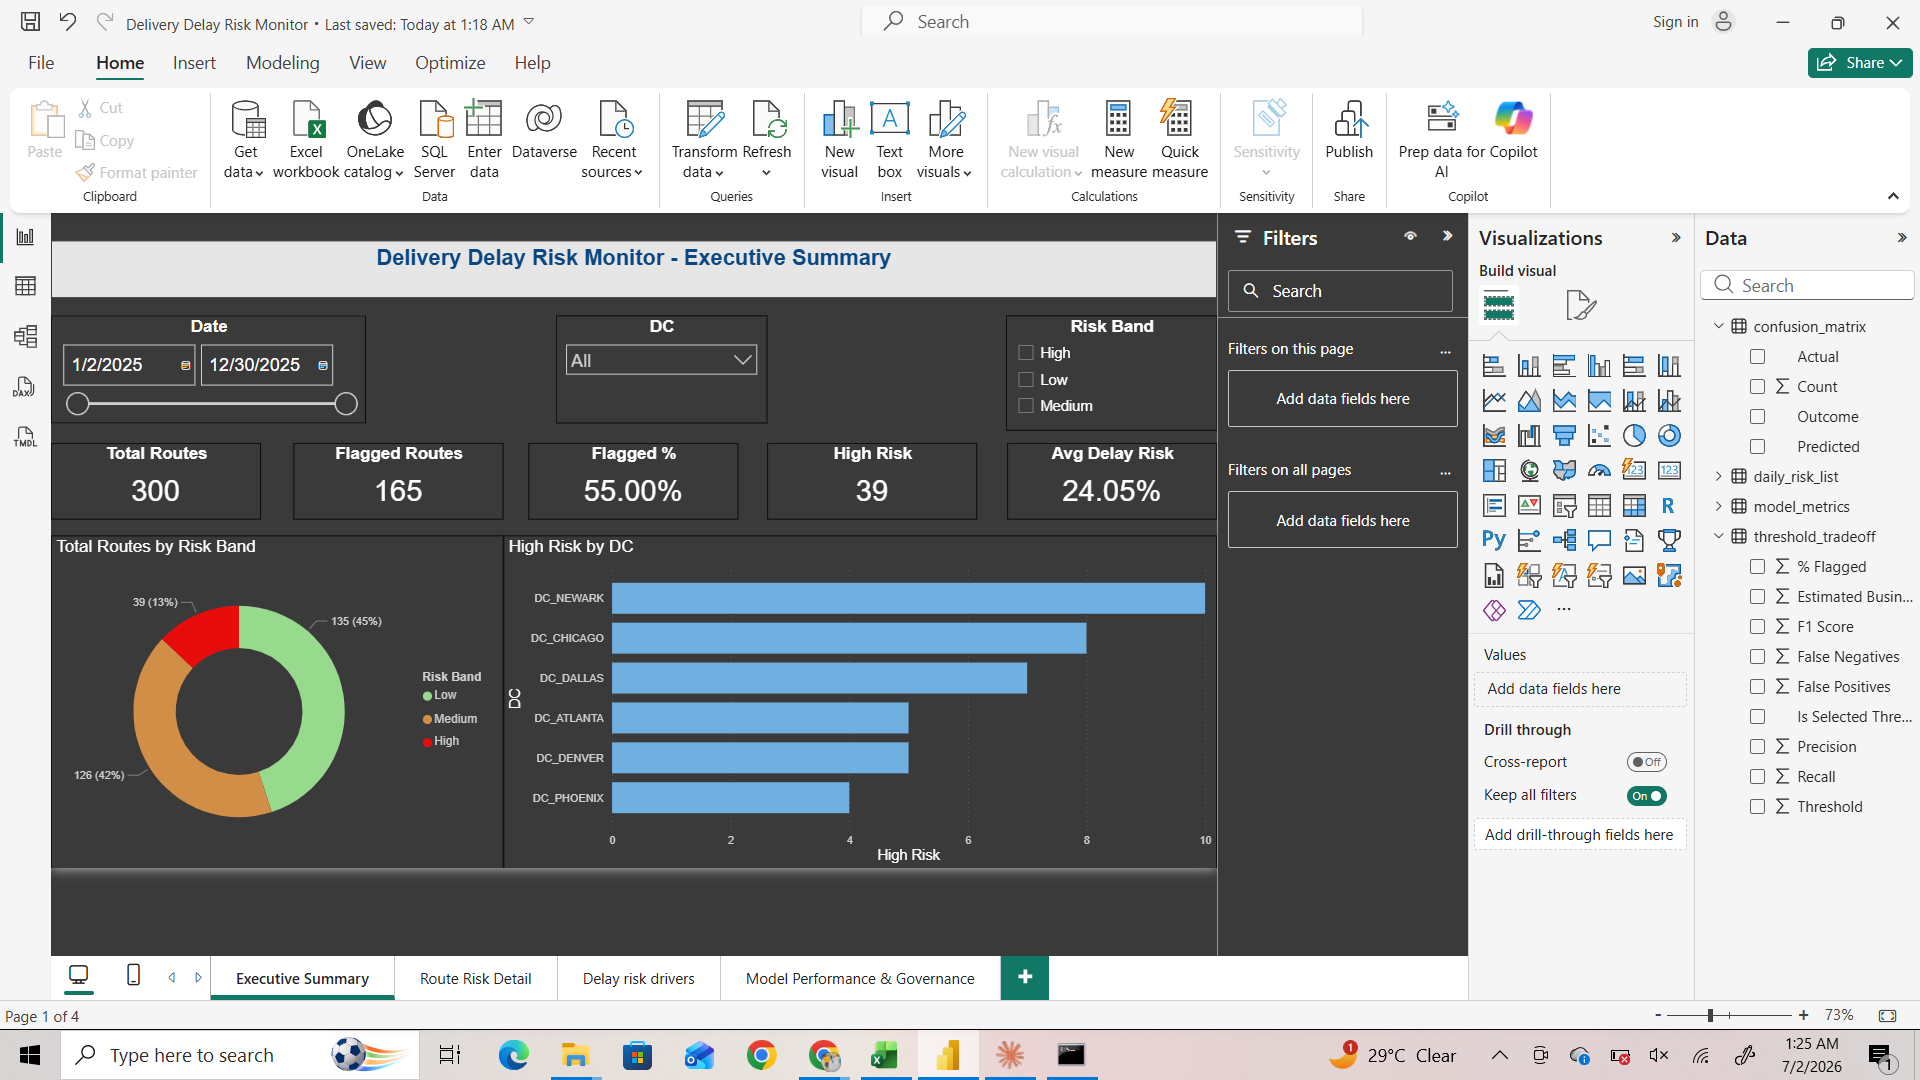

What the dashboard file says about the page in this screenshot:
{"tool":"powerbi","page":{"name":"Executive Summary","canvas":[1280,720],"ordinal":0},"visuals":[{"type":"card","title":"Total Routes","fields":{"Values":["daily_risk_list.Total Routes"]},"box":[0,252.5,230.5,83.7],"z":0},{"type":"card","title":"Flagged Routes","fields":{"Values":["daily_risk_list.Flagged Routes"]},"box":[266.2,252.5,230.5,83.7],"z":1000},{"type":"card","title":"High Risk","fields":{"Values":["daily_risk_list.High Risk"]},"box":[786.3,252.5,230.5,83.7],"z":2000},{"type":"card","title":"Flagged %","fields":{"Values":["daily_risk_list.Flagged %"]},"box":[524.2,252.5,230.5,83.7],"z":3000},{"type":"card","title":"Avg Delay Risk","fields":{"Values":["daily_risk_list.Avg Delay Risk"]},"box":[1049.7,252.5,230.5,83.7],"z":4000},{"type":"donutChart","title":"Total Routes by Risk Band","fields":{"Category":["daily_risk_list.risk_band"],"Y":["daily_risk_list.Total Routes"]},"box":[0,354,496.7,366.4],"z":5000},{"type":"clusteredBarChart","title":"High Risk by DC","fields":{"Category":["daily_risk_list.dc"],"Y":["daily_risk_list.High Risk"]},"box":[496.7,354,783.5,366.4],"z":6000},{"type":"slicer","title":"DC","fields":{"Values":["daily_risk_list.dc"]},"box":[554.4,112.5,231.9,118],"z":7000},{"type":"slicer","title":"Risk Band","fields":{"Values":["daily_risk_list.risk_band"]},"box":[1048.4,112.5,231.9,126.2],"z":8000},{"type":"slicer","title":"Date","fields":{"Values":["daily_risk_list.route_date"]},"box":[0,112.5,345.8,118],"z":9000},{"type":"textbox","box":[0,30.2,1280.3,63.1],"z":10000}]}

Visuals, with their boxes on the page's 1280x720 design canvas (x1, y1, x2, y2). These are canvas units, not pixel positions in the 1920x1080 screenshot, which may show the page scaled, cropped or inside an application window:
"Total Routes" card: 0:252:230:336
"Flagged Routes" card: 266:252:497:336
"High Risk" card: 786:252:1017:336
"Flagged %" card: 524:252:755:336
"Avg Delay Risk" card: 1050:252:1280:336
"Total Routes by Risk Band" donutChart: 0:354:497:720
"High Risk by DC" clusteredBarChart: 497:354:1280:720
"DC" slicer: 554:112:786:230
"Risk Band" slicer: 1048:112:1280:239
"Date" slicer: 0:112:346:230
textbox: 0:30:1280:93
